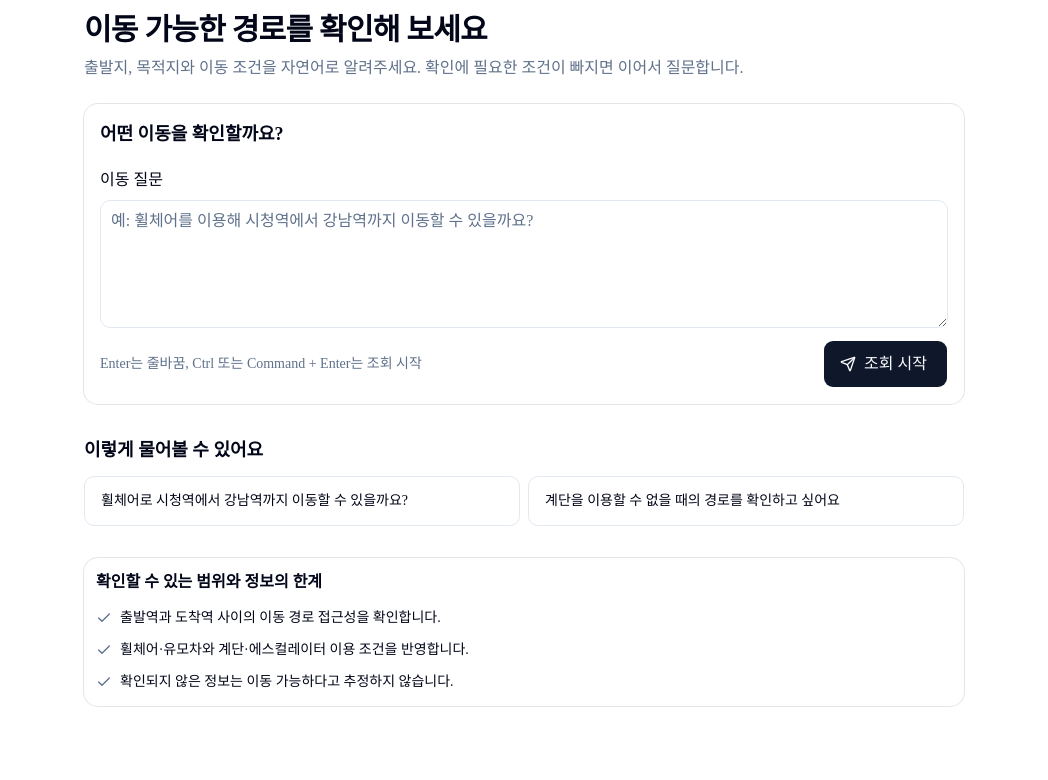
Test: AssistantWorkspace › rejoins an in-progress start only after explicit confirmation with the same key
Step 1. Type "시청역에서 강남역까지 갈 수 있나요?" into the text box labelled "이동 질문" → coordinates (524, 264), box x1=100 y1=200 x2=948 y2=328
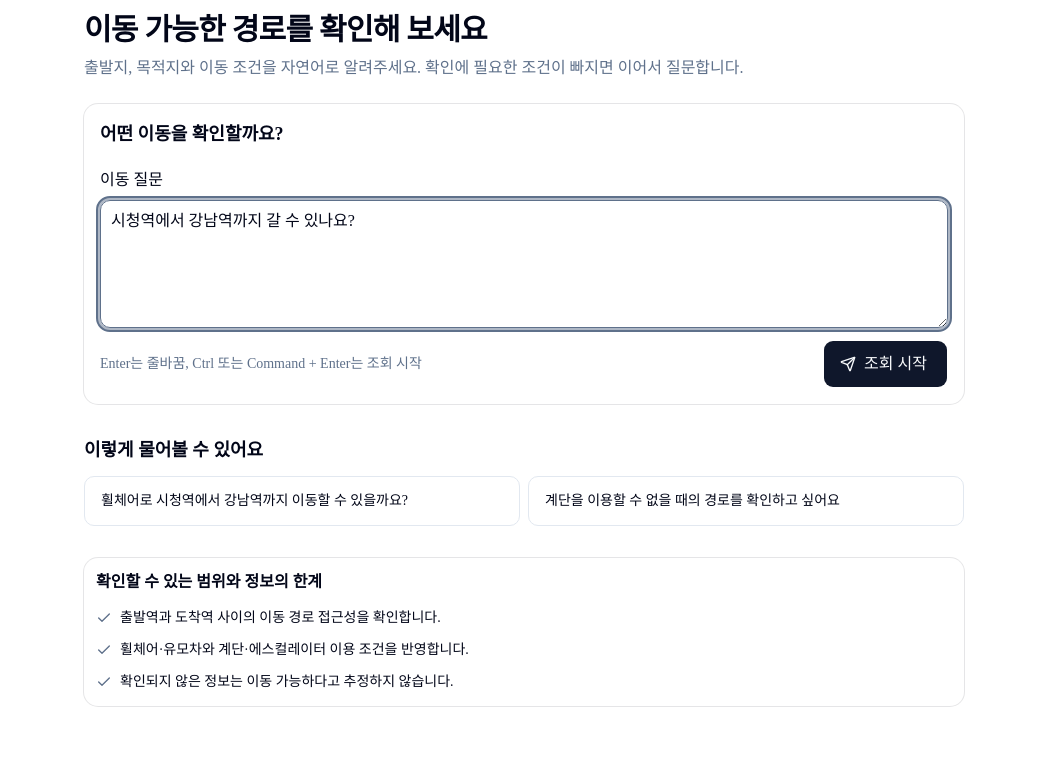
Step 2. Click the button "조회 시작" → coordinates (886, 364), box x1=823 y1=340 x2=948 y2=388
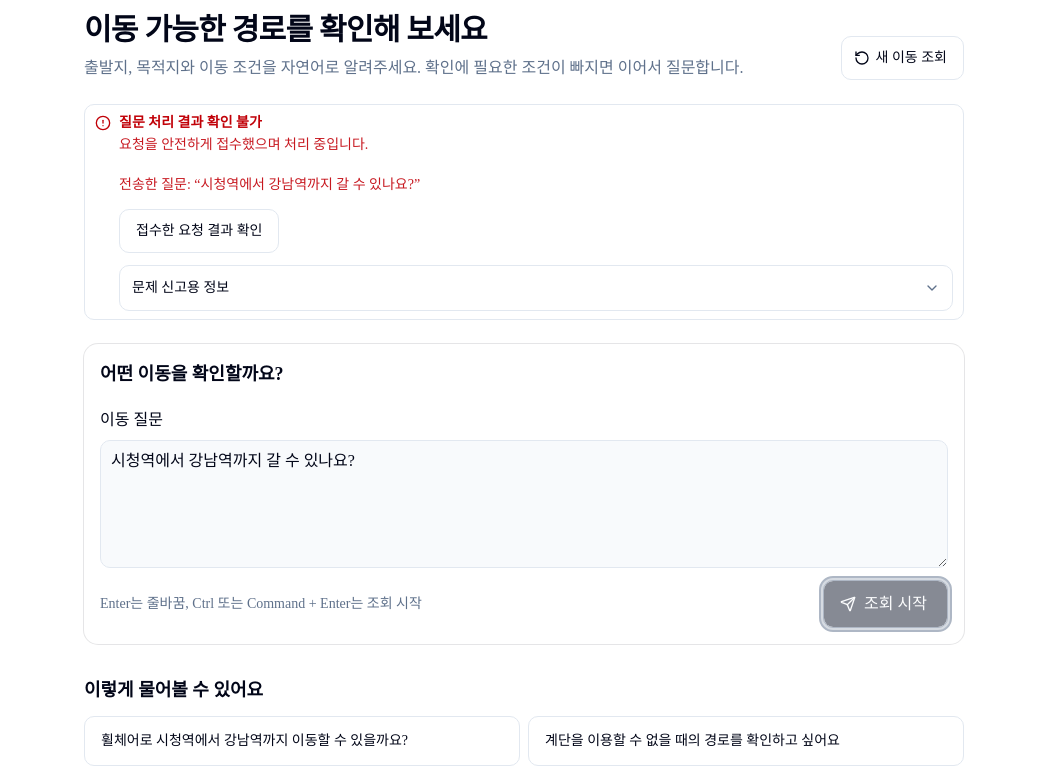
Step 3. Click the button "접수한 요청 결과 확인" → coordinates (199, 231), box x1=119 y1=209 x2=279 y2=253
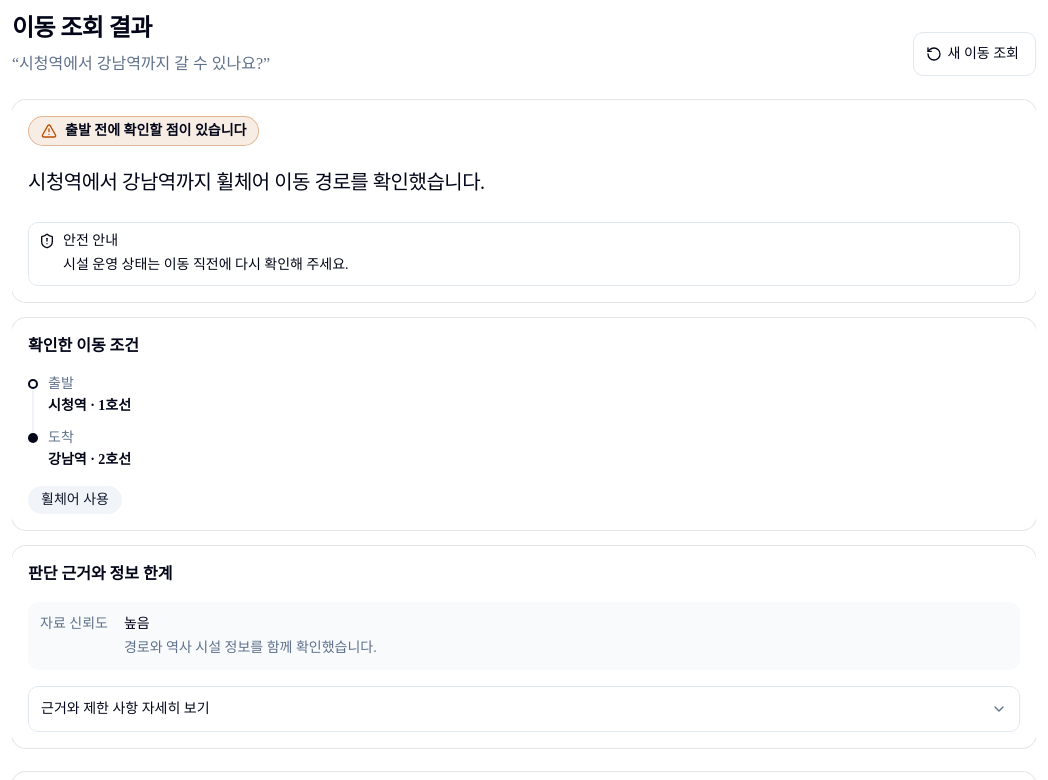
Check: the text "시청역에서 강남역까지 휠체어 이동 경로를 확인했습니다." is shown, box x1=28 y1=171 x2=485 y2=193
Check: the button "접수한 요청 결과 확인" is gone
